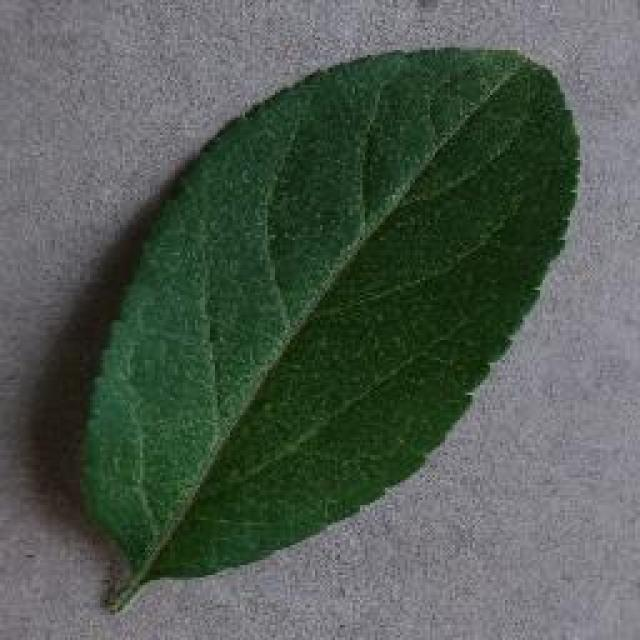apple healthy: (75, 42, 583, 612)
